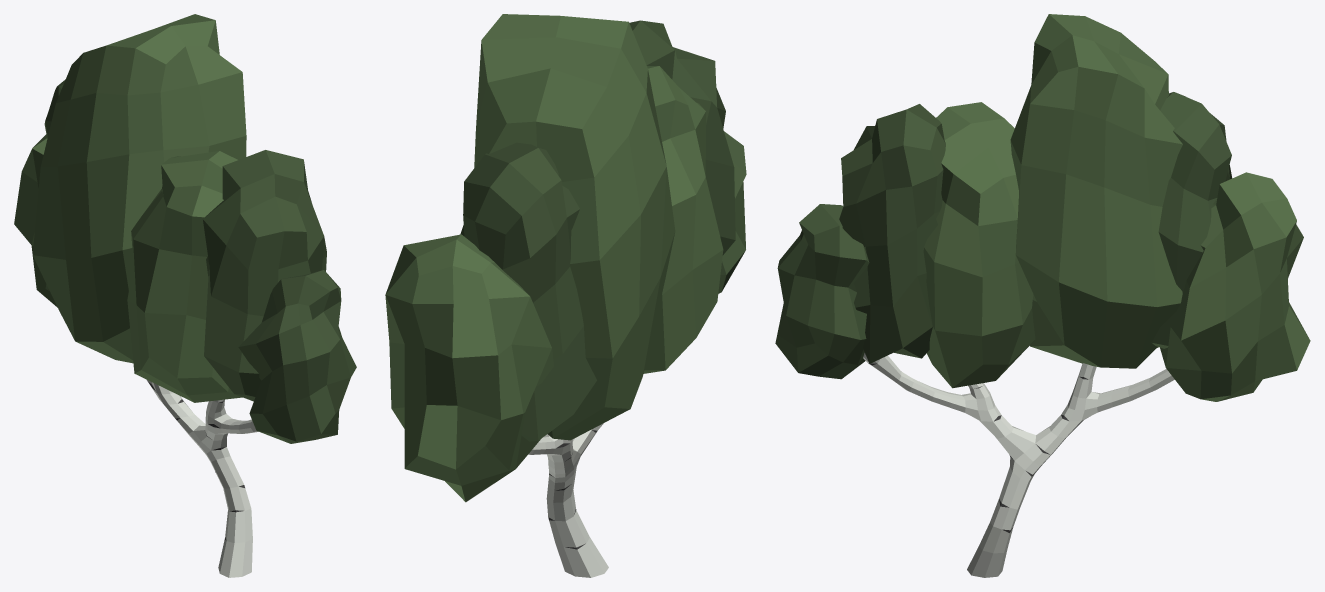
The model's file is birchtree_4.glb.
3 renders of one model, left to right at view 1: azimuth 30°, elevation 25°; view 2: azimuth 150°, elevation 25°; view 3: azimuth 270°, elevation 25°, orthographic. The views are drawn at different scales.
Visible parts, largest first — view 1: BirchTree_4; view 2: BirchTree_4; view 3: BirchTree_4.
Boxes of the visible parts, x1,y1,x2,y2 form: BirchTree_4: [14, 14, 356, 577]; BirchTree_4: [385, 14, 746, 577]; BirchTree_4: [775, 14, 1310, 577].
Bounding box in the file's own units: 2.88 × 8.9 × 8.22.
